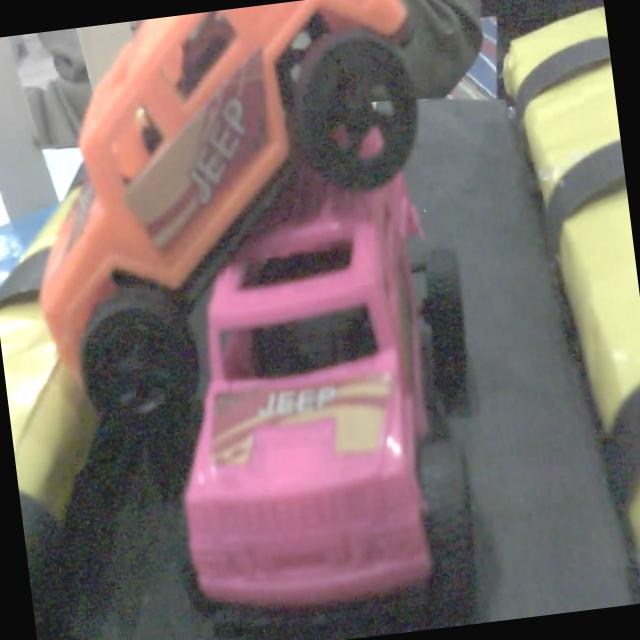Accident: (0, 0, 459, 605)
